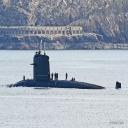submarine: (8, 39, 123, 89)
